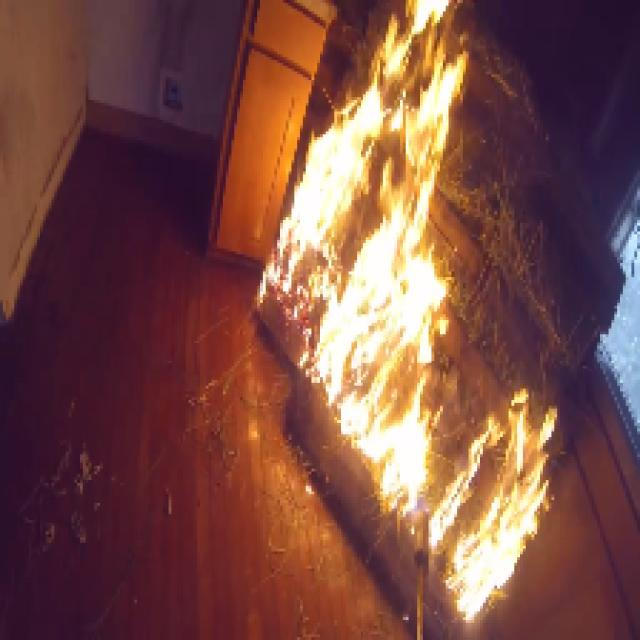fire: (272, 84, 542, 612)
